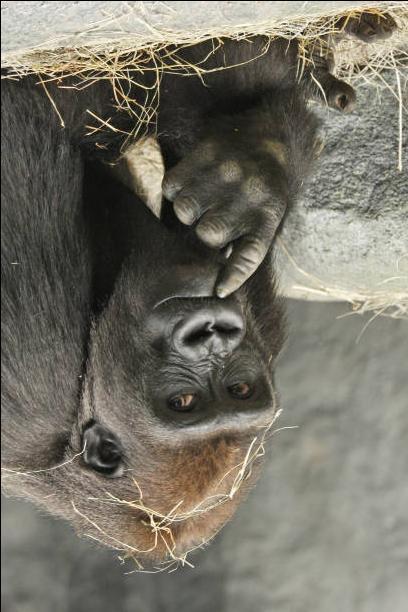gorille_Autres: (0, 29, 380, 580)
